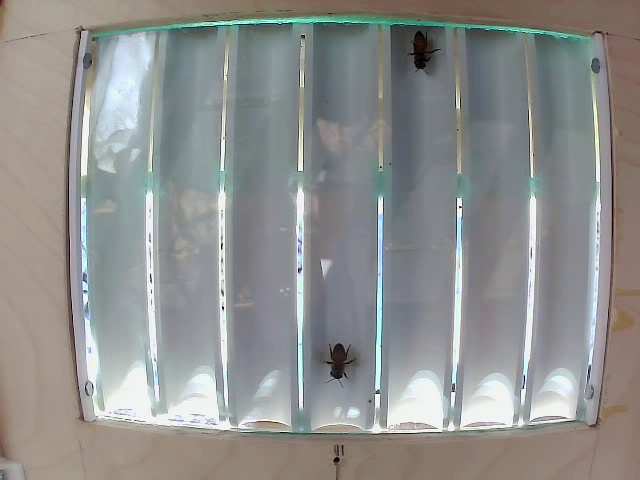bee: (314, 311, 358, 379), (397, 19, 438, 73)
